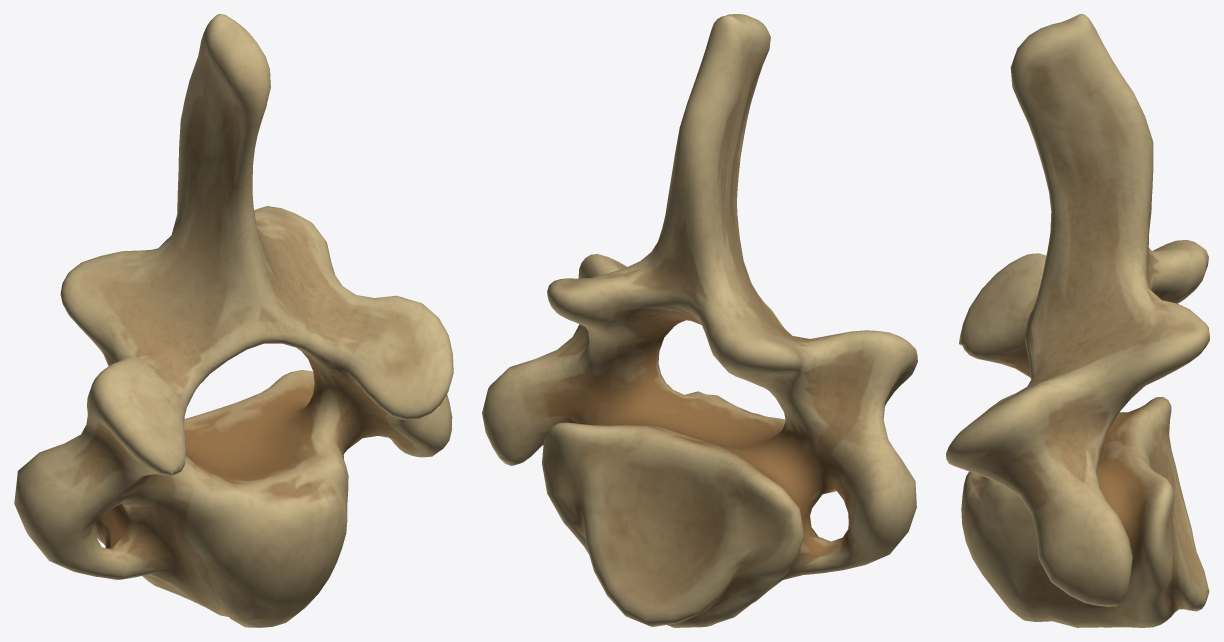
3 renders of one model, left to right at view 1: azimuth 30°, elevation 25°; view 2: azimuth 150°, elevation 25°; view 3: azimuth 270°, elevation 25°, orthographic. The views are drawn at different scales.
Visible parts, largest first — view 1: C8.001; view 2: C8.001; view 3: C8.001.
Boxes of the visible parts, <box> form: C8.001: <box>14,14,453,627</box>; C8.001: <box>482,14,917,627</box>; C8.001: <box>946,14,1209,627</box>.
Bounding box in the file's own units: 72.27 × 98.2 × 39.2.
1 material, 1 textured.
